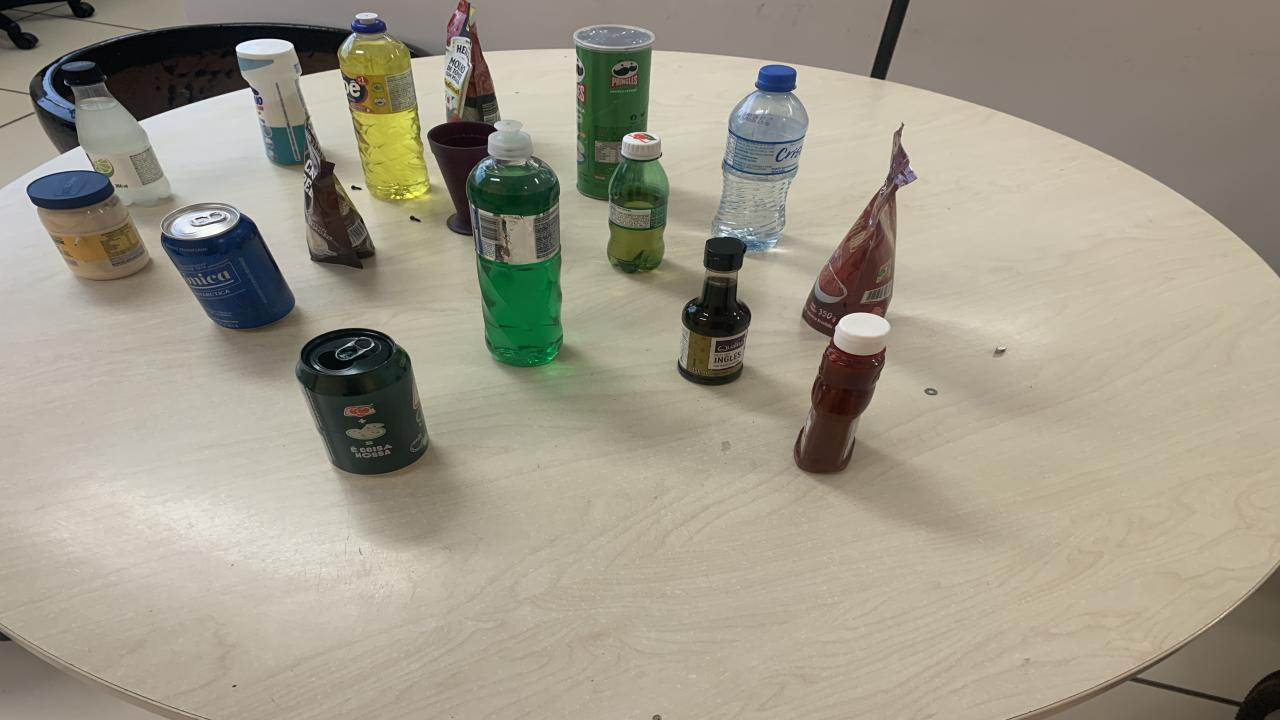Cleaner-Cleanup_Items: (235, 39, 308, 165)
Coffee-Pantry_Items: (302, 118, 375, 268)
Detergent-Cleanup_Items: (468, 120, 562, 366), (338, 13, 430, 199)
English_Sauce-Pantry_Items: (678, 236, 750, 384)
Guarana-Drinks: (608, 131, 670, 272)
Guarana_Can-Drinks: (295, 328, 430, 474)
Ketchup-Pantry_Items: (795, 313, 890, 472)
Mayonnaise-Pantry_Items: (25, 171, 150, 279)
Pringles-Snacks: (572, 24, 655, 199)
Soda-Drinks: (60, 62, 170, 206)
Tomato_Sauce-Pantry_Items: (802, 126, 918, 336), (445, 0, 500, 124)
Tonic-Drinks: (160, 202, 295, 330)
Water_Bottle-Drinks: (710, 66, 808, 251)
